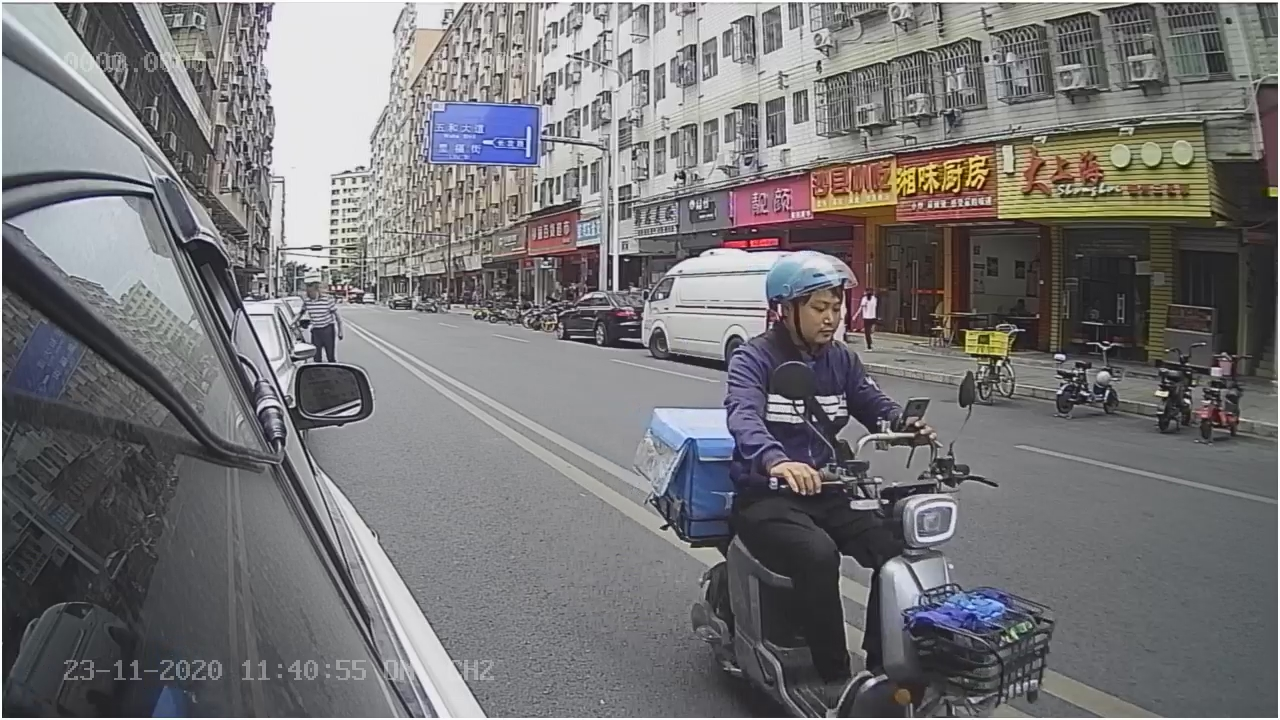person: (717, 249, 857, 475)
